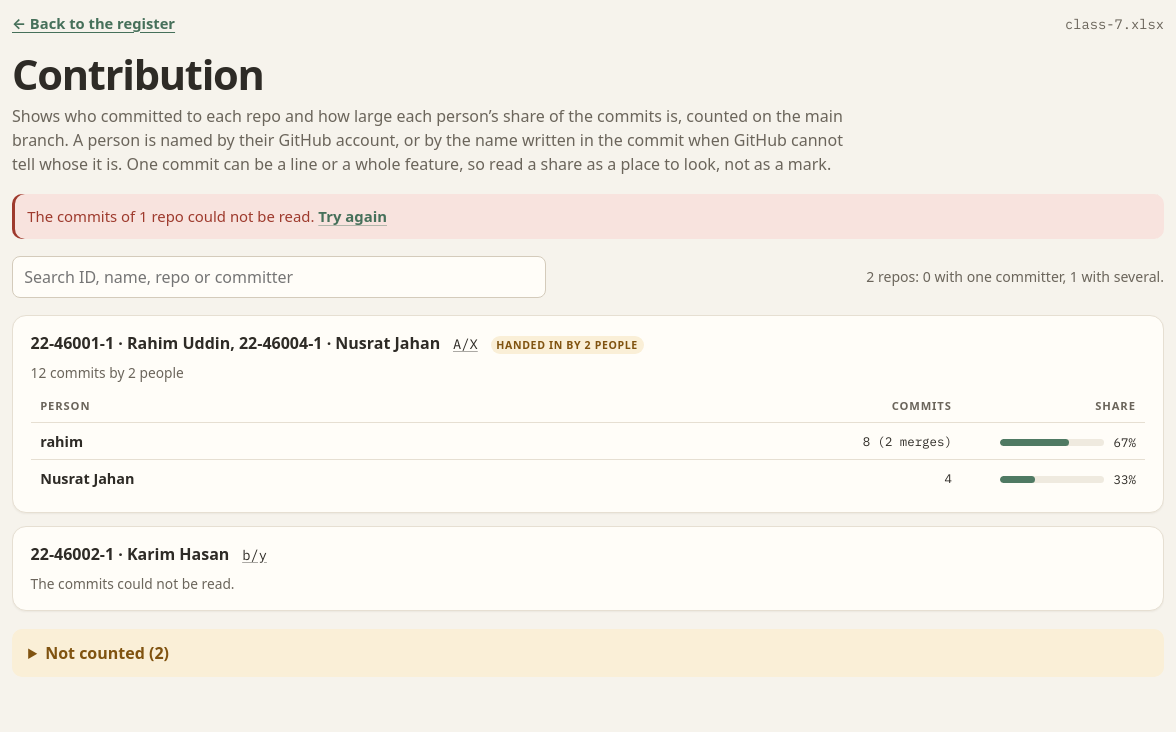
Scenario: ContributionView › says when the commits of a repo could not be read, and reads them again on Try again
expect the message shows "The commits of 1 repo could not be read.": met, box [12, 194, 1164, 239]
expect the table "Commits by person in b/y" is not shown: met
Click the button "Try again".
click(353, 216)  # box [318, 205, 387, 227]
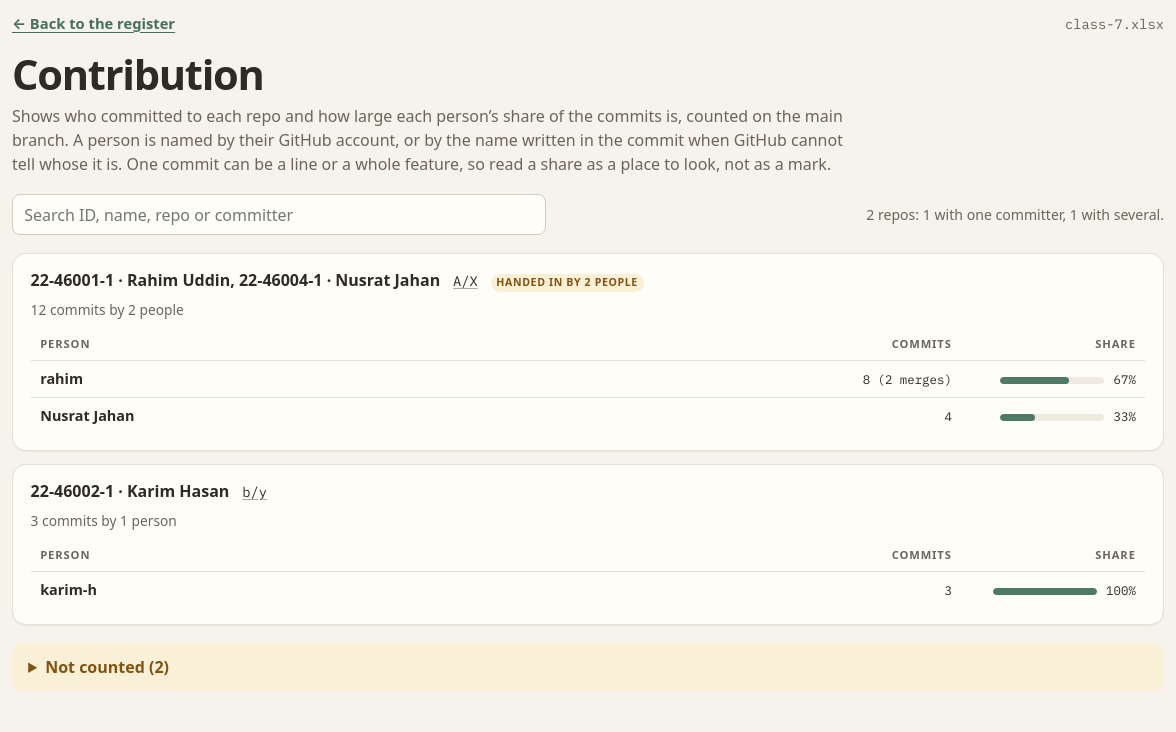
expect the message "The commits of 1 repo could not be read. Try again" is gone: met
